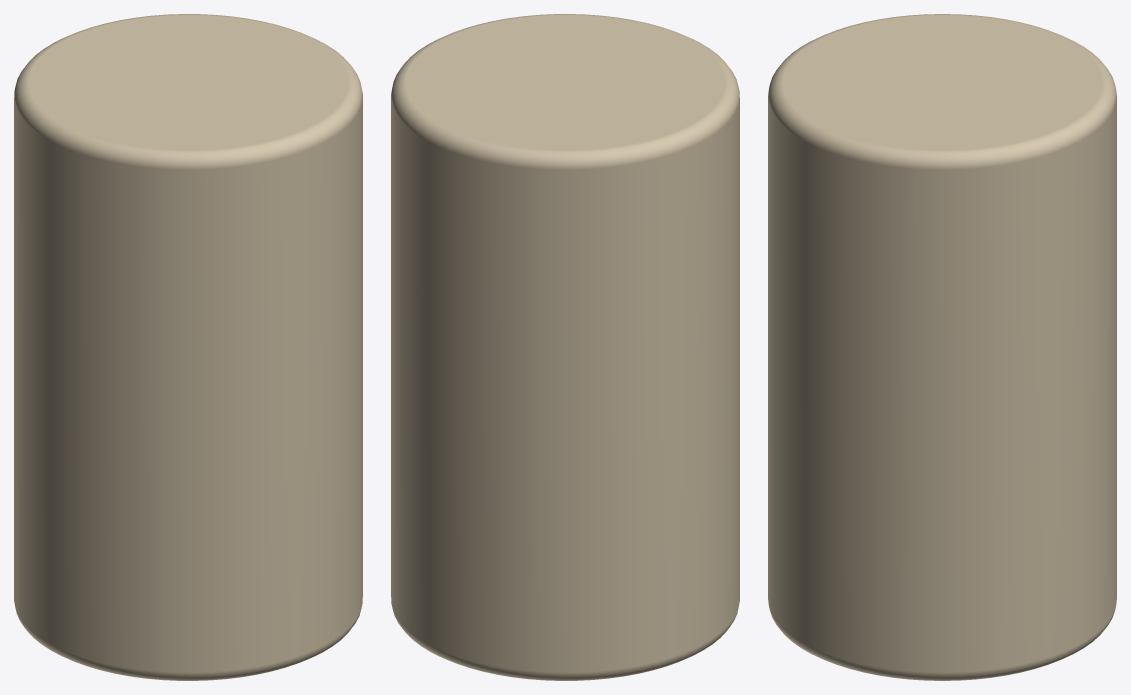
The model's file is hero-stepping-4.glb.
3 renders of one model, left to right at view 1: azimuth 30°, elevation 25°; view 2: azimuth 150°, elevation 25°; view 3: azimuth 270°, elevation 25°, orthographic.
Parts seen in each view (by area): view 1: Honed stone stepping disc.004; view 2: Honed stone stepping disc.004; view 3: Honed stone stepping disc.004.
Boxes of the visible parts, left/top/right/bottom form: Honed stone stepping disc.004: left=14, top=14, right=362, bottom=680; Honed stone stepping disc.004: left=391, top=14, right=739, bottom=680; Honed stone stepping disc.004: left=768, top=14, right=1116, bottom=680.
Bounding box in the file's own units: 0.0707 × 0.1184 × 0.0707.
